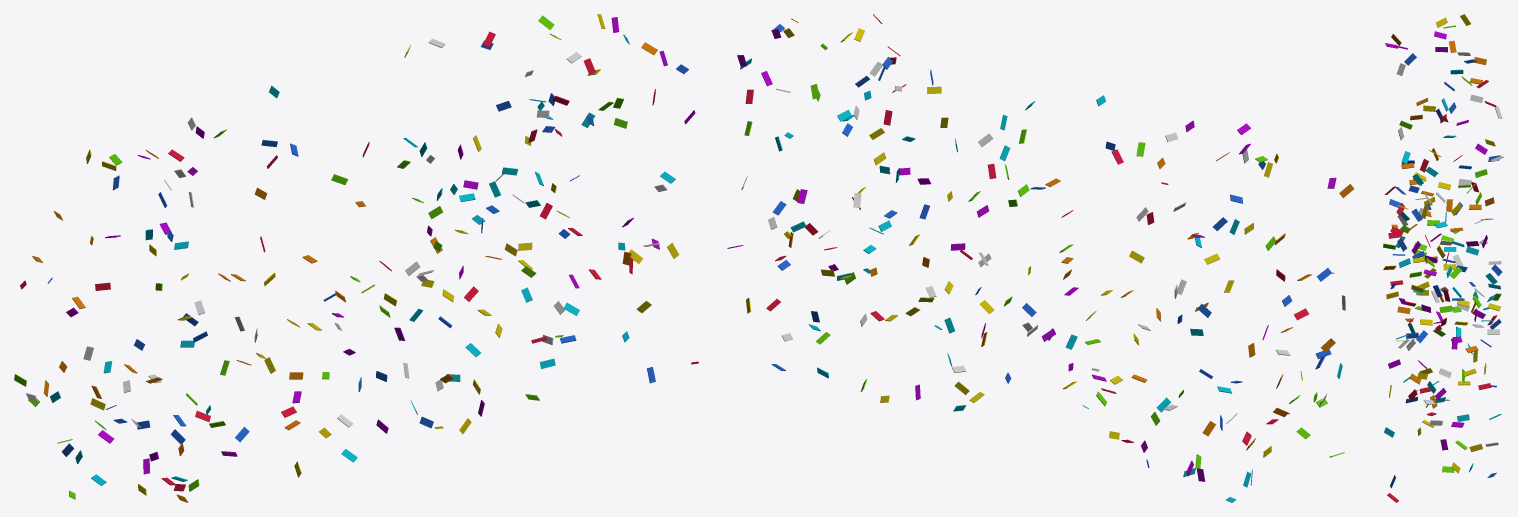
Rendered from confetti.glb.
The picture shows the model from 3 angles, left to right: view 1: azimuth 30°, elevation 25°; view 2: azimuth 150°, elevation 25°; view 3: azimuth 270°, elevation 25°; orthographic projection. The views are drawn at different scales.
Size of the model in its own units: 16.11 by 9.19 by 3.28.
